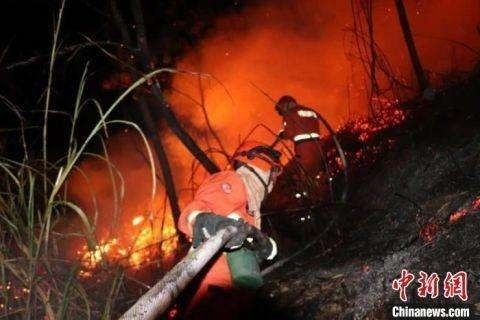fire: (77, 211, 181, 267)
